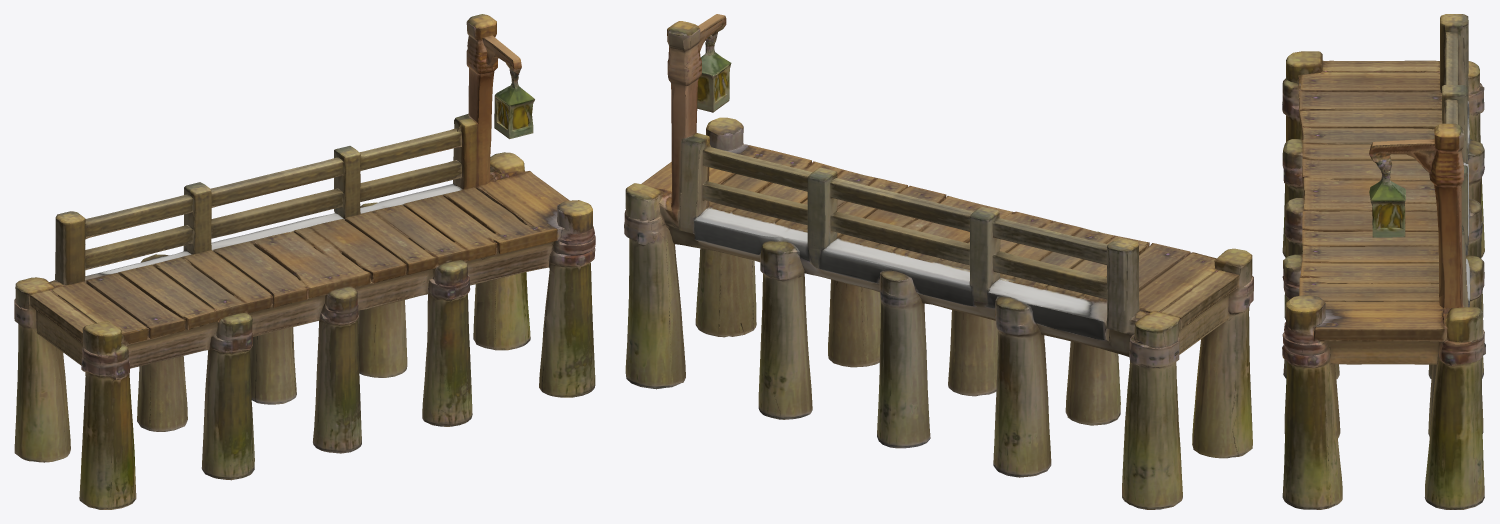
File: hb_wooden_pier.glb
3 views of the same model, side by side, from view 1: azimuth 30°, elevation 25°; view 2: azimuth 150°, elevation 25°; view 3: azimuth 270°, elevation 25° (orthographic). The views are drawn at different scales.
Parts seen in each view (by area): view 1: geometry_0; view 2: geometry_0; view 3: geometry_0.
Boxes of the visible parts, x1,y1,x2,y2 form: geometry_0: [14, 14, 595, 509]; geometry_0: [624, 14, 1253, 509]; geometry_0: [1282, 14, 1485, 509].
Size of the model in its own units: 11.36 by 7 by 3.61.
Materials: 1 (1 with a texture image).
